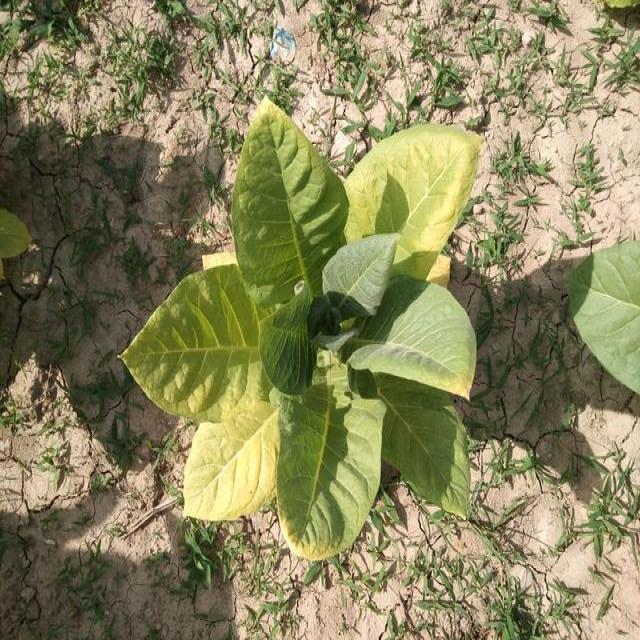crop: (121, 93, 500, 580)
